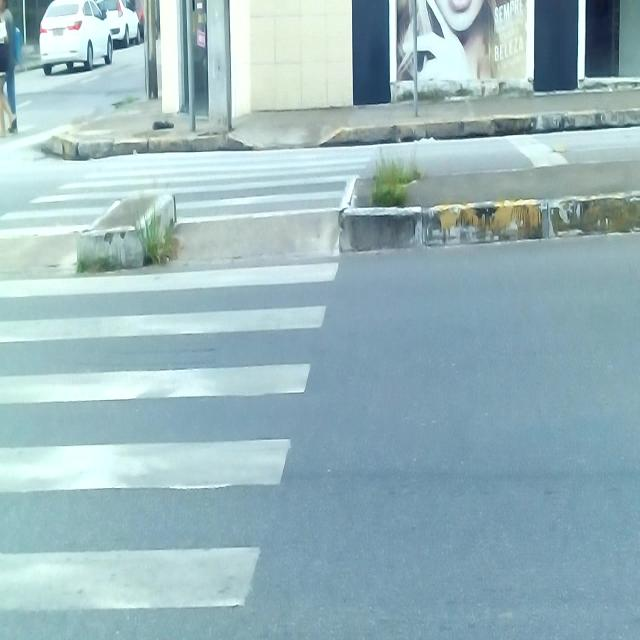crosswalk: (0, 144, 375, 640)
